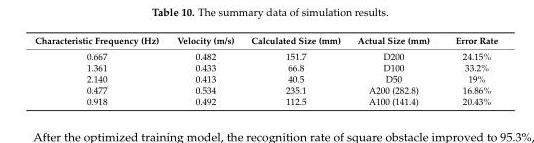table: (34, 34, 497, 106)
table column: (34, 34, 167, 106), (242, 34, 348, 106), (348, 34, 441, 106), (167, 34, 242, 106), (441, 34, 497, 106)
table column header: (34, 34, 497, 48)
table row: (34, 34, 497, 48), (34, 48, 497, 61), (34, 72, 497, 84), (34, 61, 497, 72), (34, 84, 497, 95), (34, 95, 497, 106)
